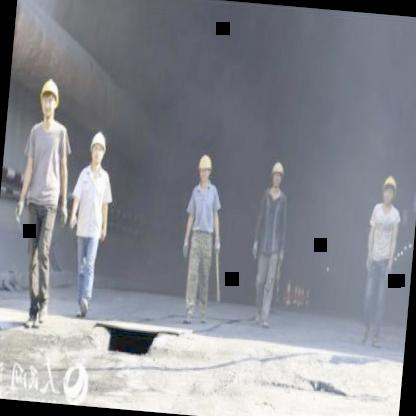helmet: (36, 73, 61, 123), (87, 128, 109, 170), (378, 172, 398, 211), (268, 158, 286, 194), (194, 152, 214, 184)
